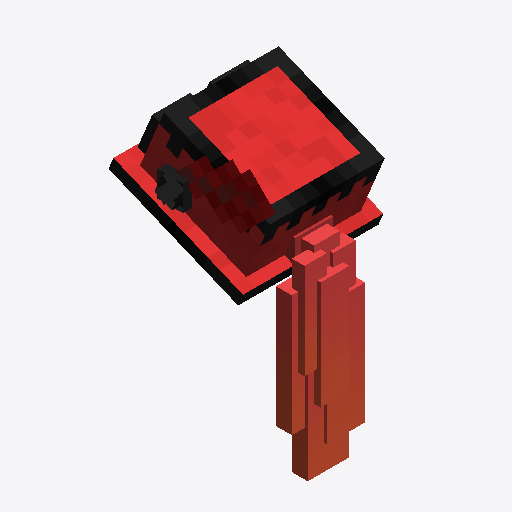
Isometric view (azimuth 45°, elevation 35.3°) of a Minecraft model made of 18 cuboids, textured from the same repository.
Parts seen in each view (by area): element 2, element 1, element 12, element 7, element 15, element 13, element 14, element 11, element 9, element 10, element 6, element 16.
Boxes of the visible parts, x1=… form: element 2: x1=140, y1=46, x2=384, y2=276; element 1: x1=109, y1=144, x2=382, y2=304; element 12: x1=314, y1=262, x2=348, y2=407; element 7: x1=176, y1=155, x2=275, y2=233; element 15: x1=276, y1=277, x2=304, y2=434; element 13: x1=324, y1=277, x2=364, y2=443; element 14: x1=292, y1=371, x2=348, y2=480; element 11: x1=292, y1=249, x2=326, y2=375; element 9: x1=301, y1=224, x2=339, y2=266; element 10: x1=330, y1=233, x2=355, y2=287; element 6: x1=157, y1=164, x2=191, y2=212; element 16: x1=138, y1=93, x2=192, y2=153.
Bounding box in the file's own units: 11.25 × 23.29 × 12.37.